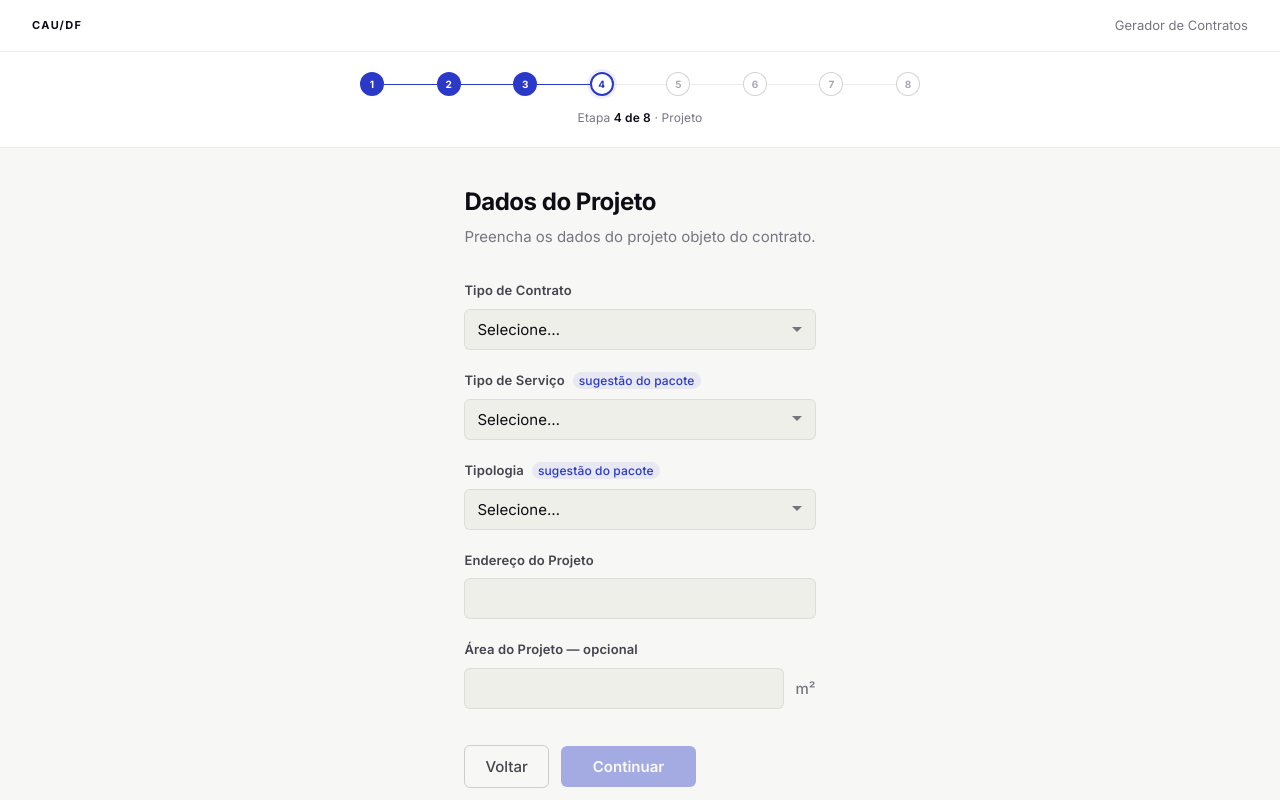
ProjectFormPage › all required fields valid with area_projeto empty enables continue button
Step 1. Select "Empreitada" in the dropdown labelled "Tipo de Contrato" → [640, 330], box [464,309,816,350]
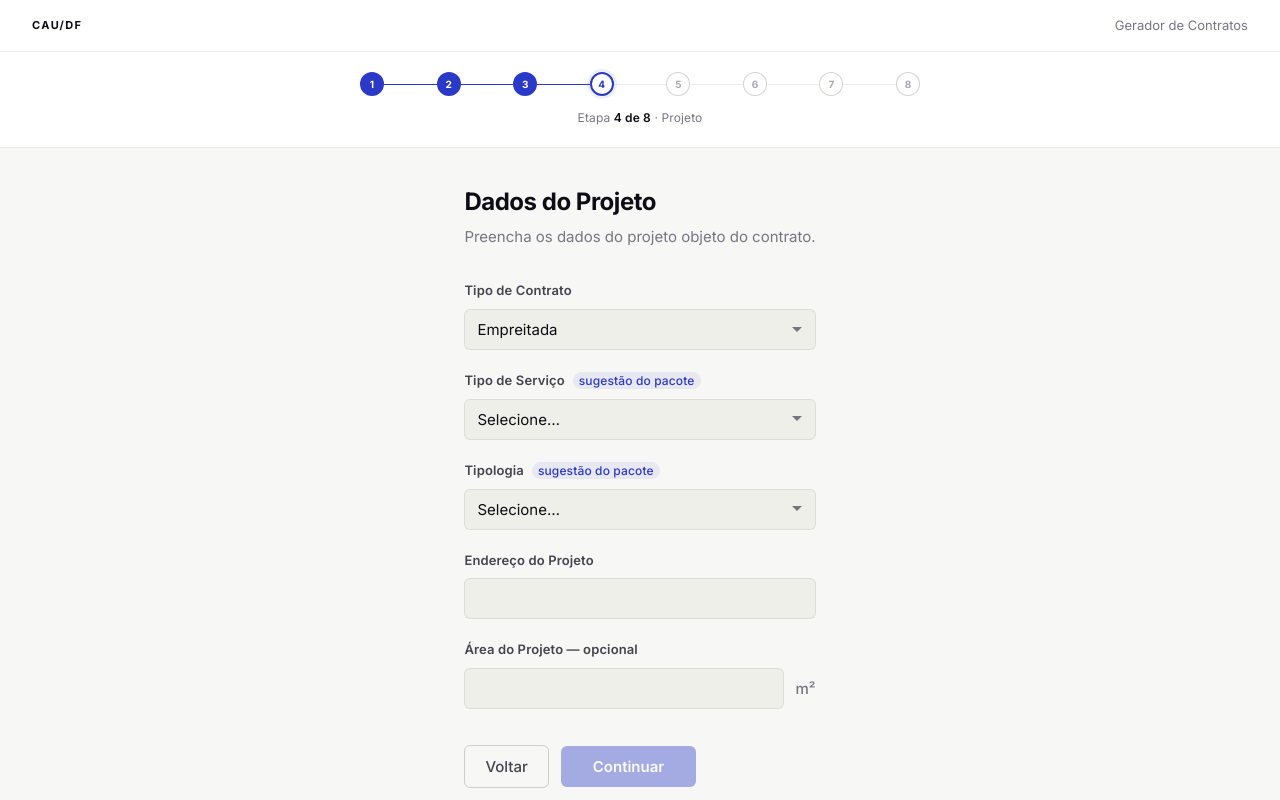
Step 2. Select "projeto" in the dropdown labelled "Tipo de Serviço" → [640, 419], box [464,399,816,440]
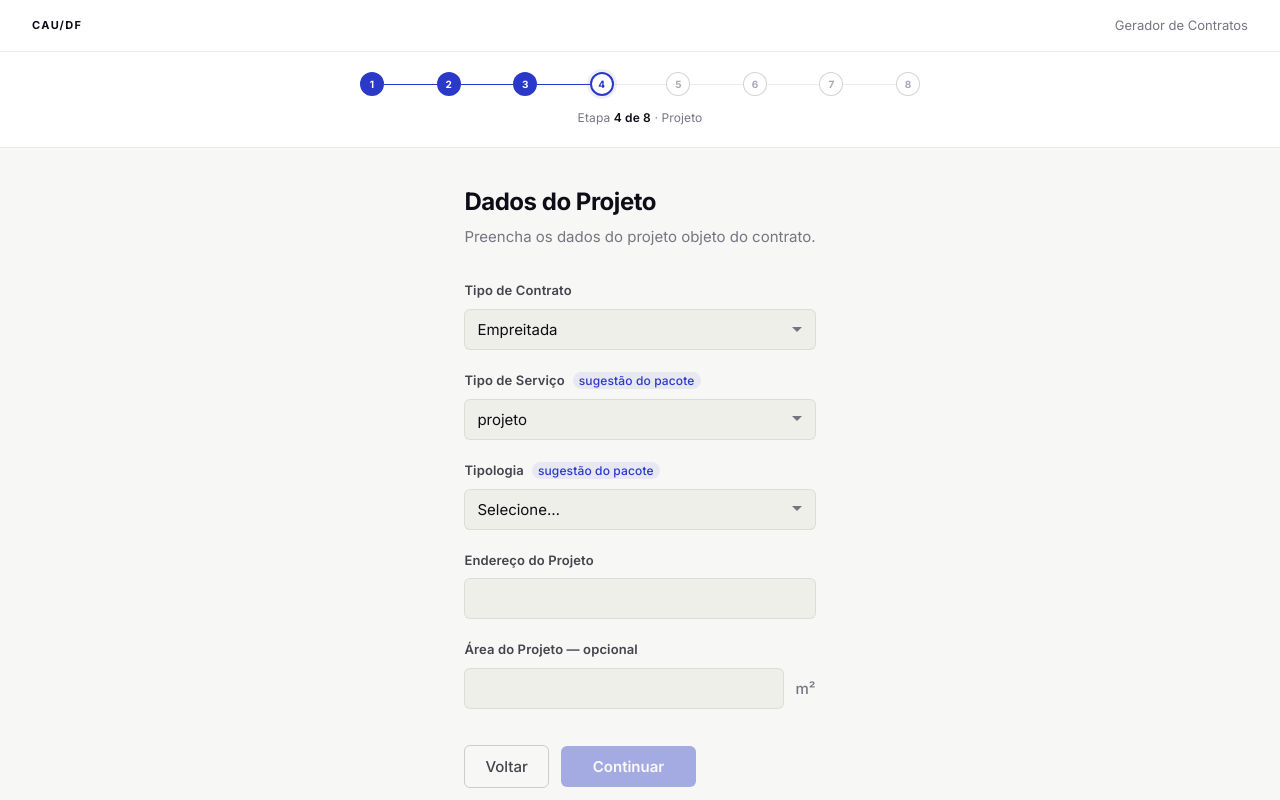
Step 3. Select "residencial" in the dropdown labelled "Tipologia" → [640, 509], box [464,489,816,530]
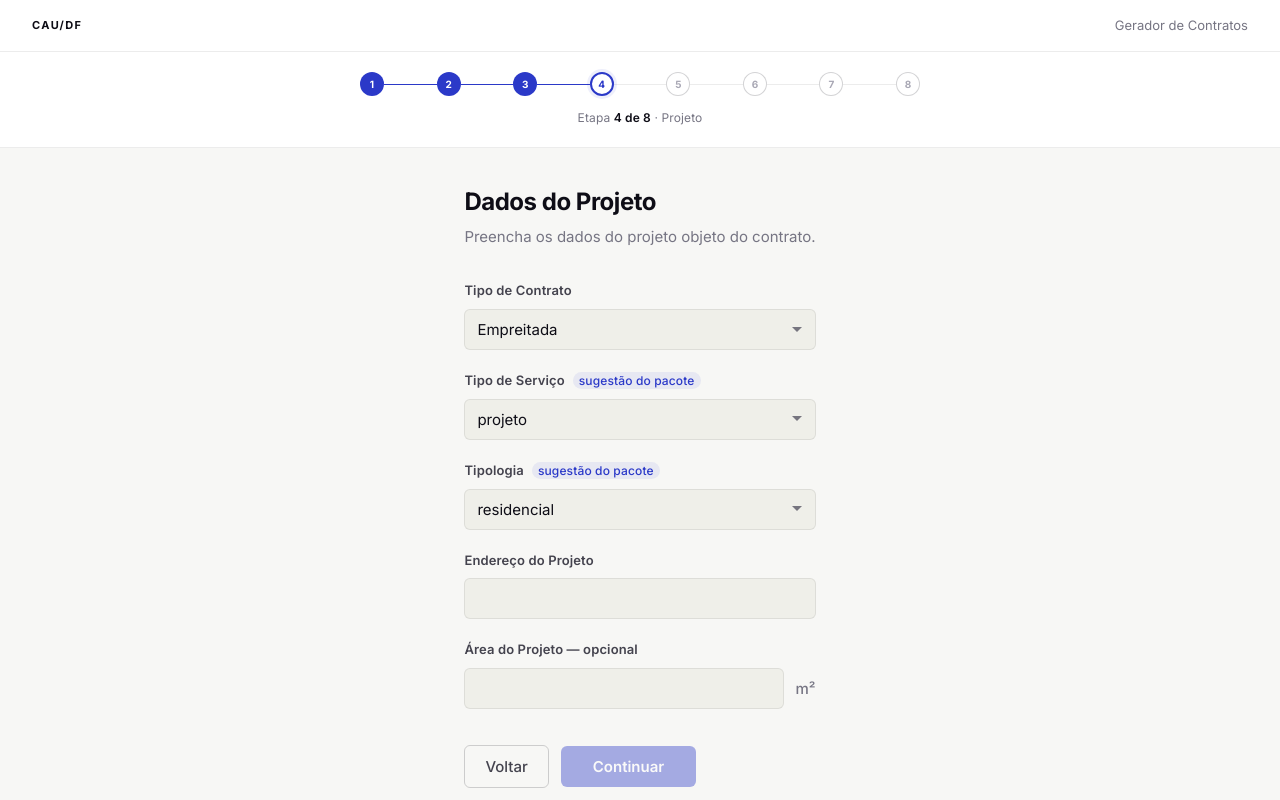
Step 4. Type "Rua A, 123" into the field labelled "Endereço do Projeto" → [640, 599], box [464,578,816,619]
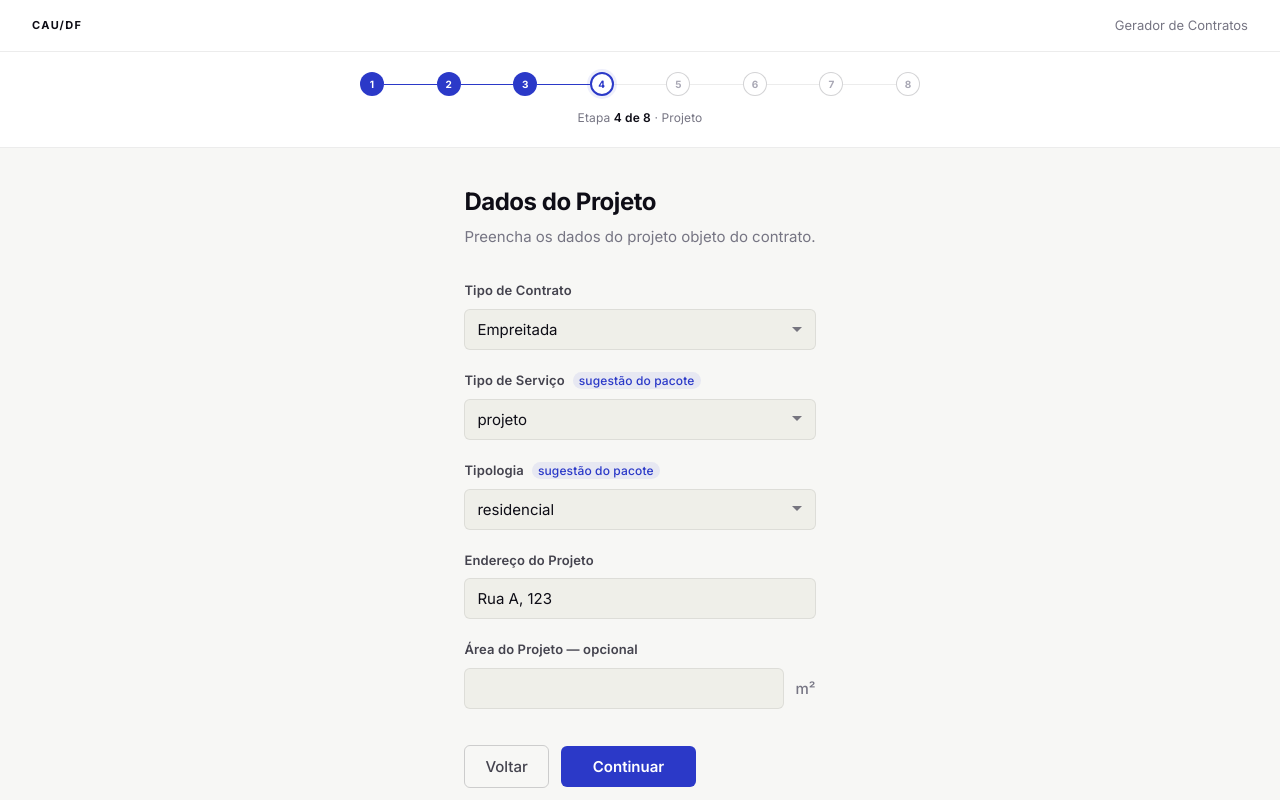
Expected: the button "Continuar" is enabled, [561,746,696,787]
